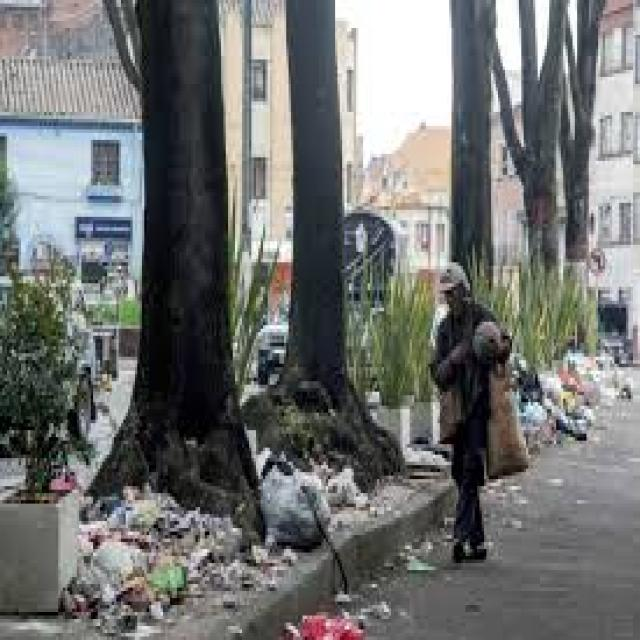garbage: (55, 382, 395, 632)
